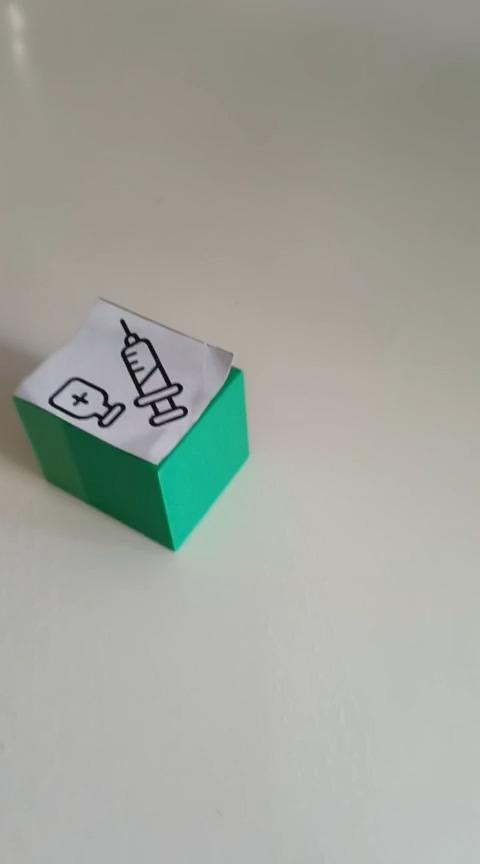antiseptic cream: (11, 295, 251, 552)
